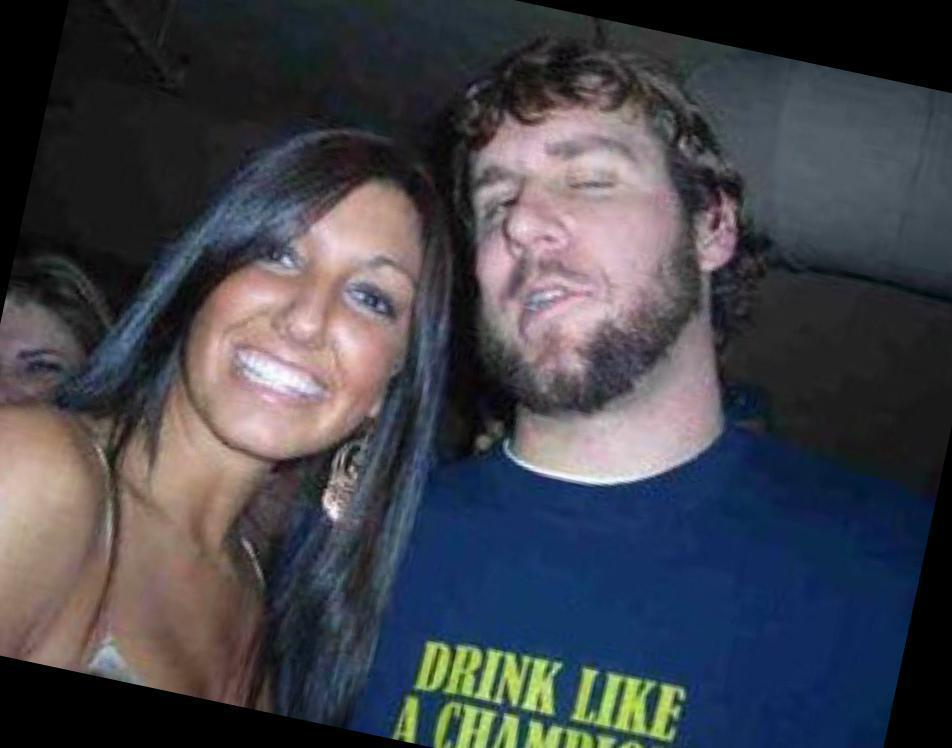Drunk: (202, 165, 422, 456), (472, 107, 673, 389)
